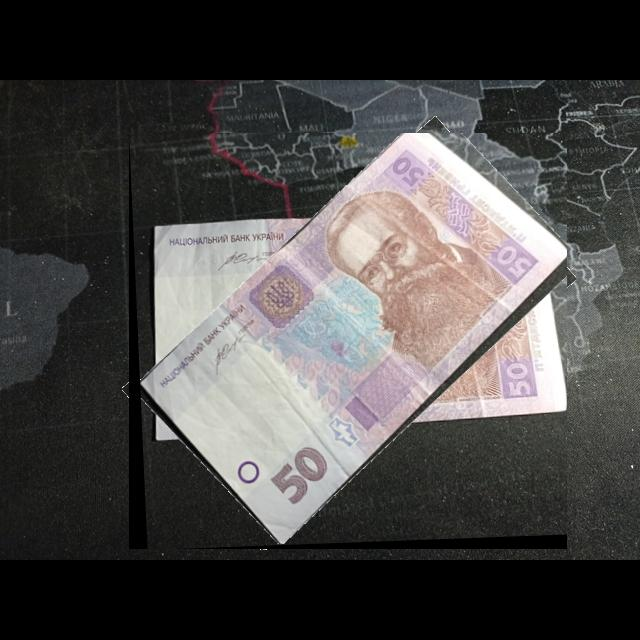50uah: (139, 133, 568, 547)
